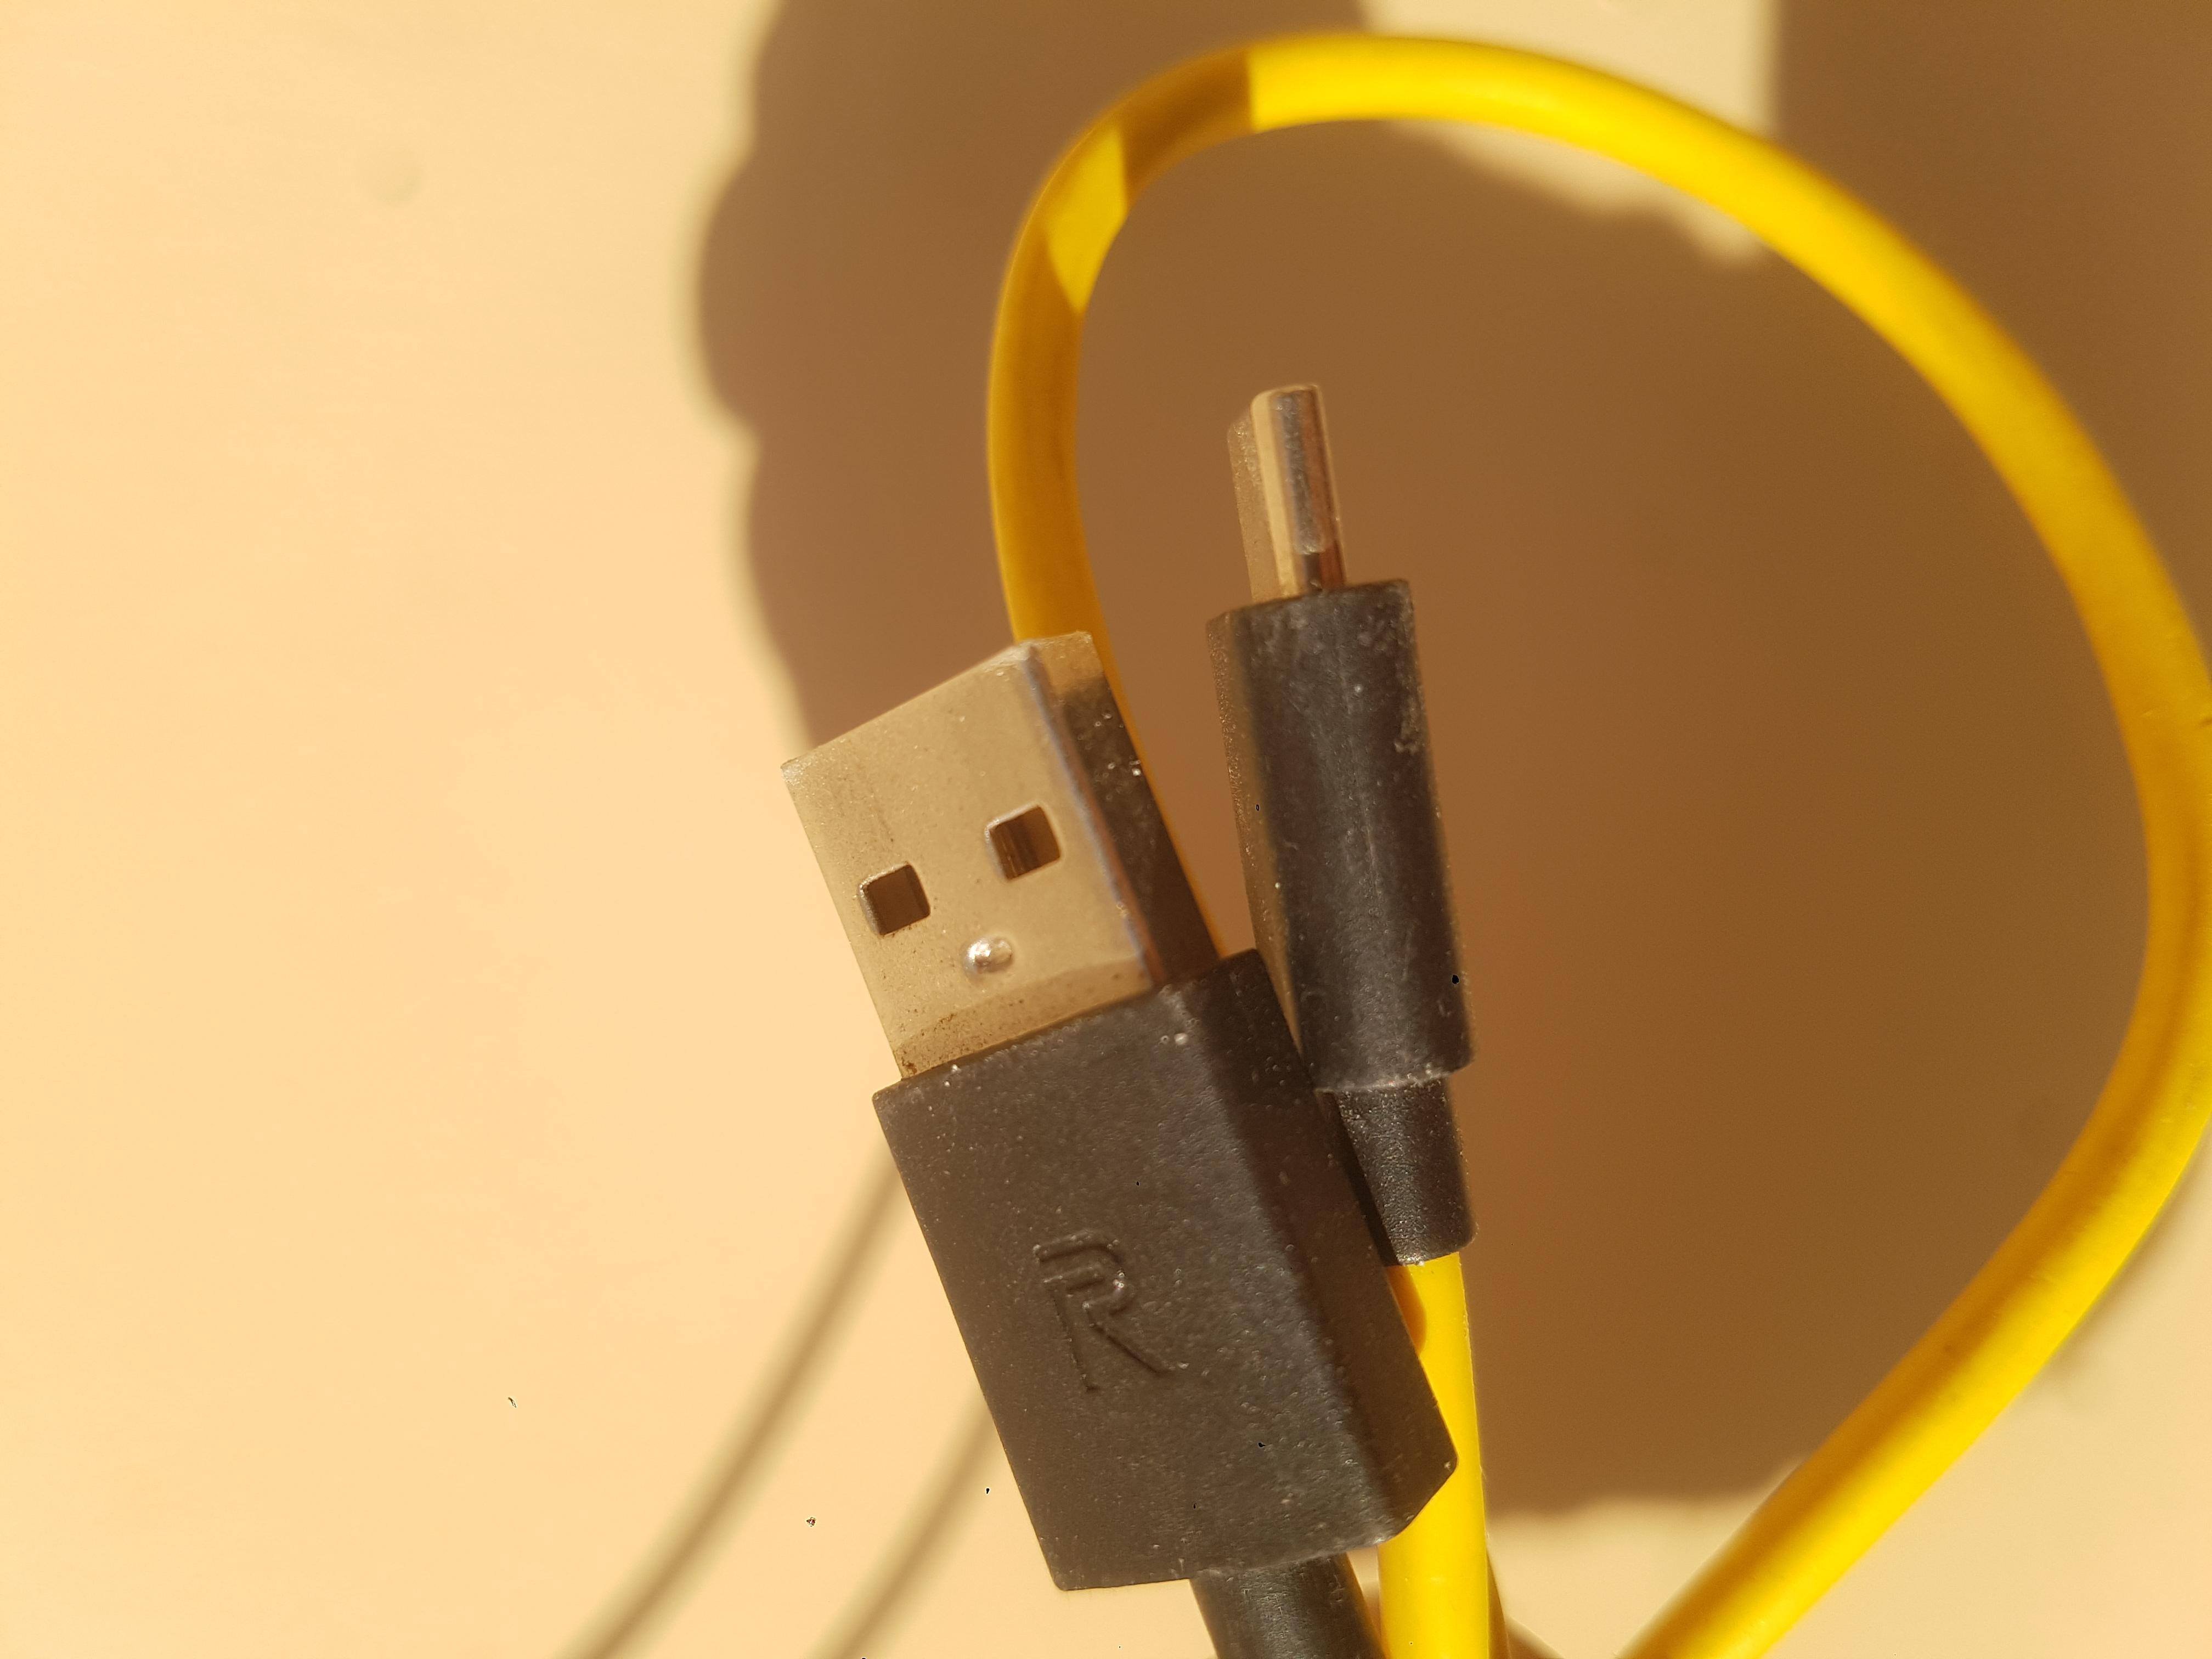electronic: (14, 301, 2128, 1654)
